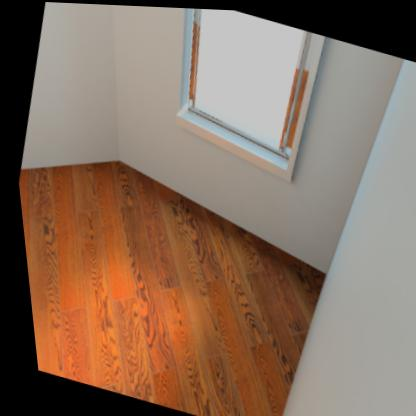Wooden floor: (15, 162, 319, 416)
